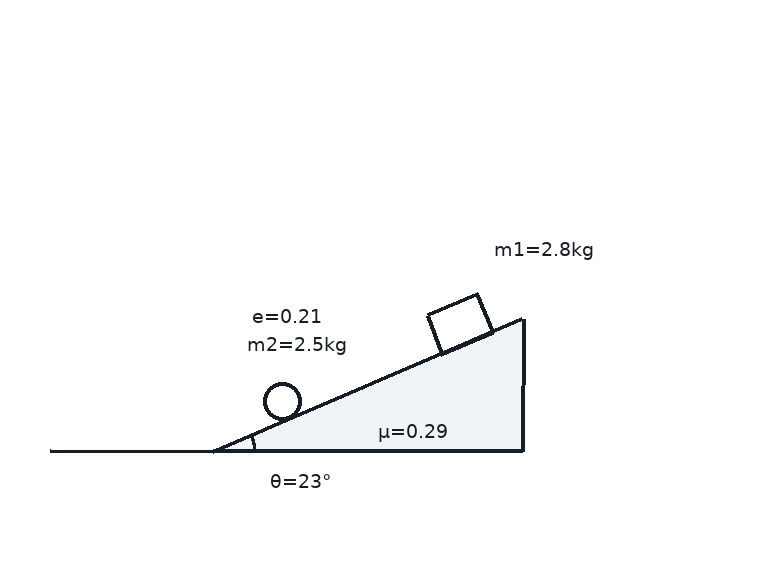ball: (261, 380, 303, 422)
block: (424, 292, 495, 355)
ramp: (212, 317, 524, 452)
